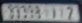7: (66, 6, 74, 21)
a: (51, 7, 57, 19)
